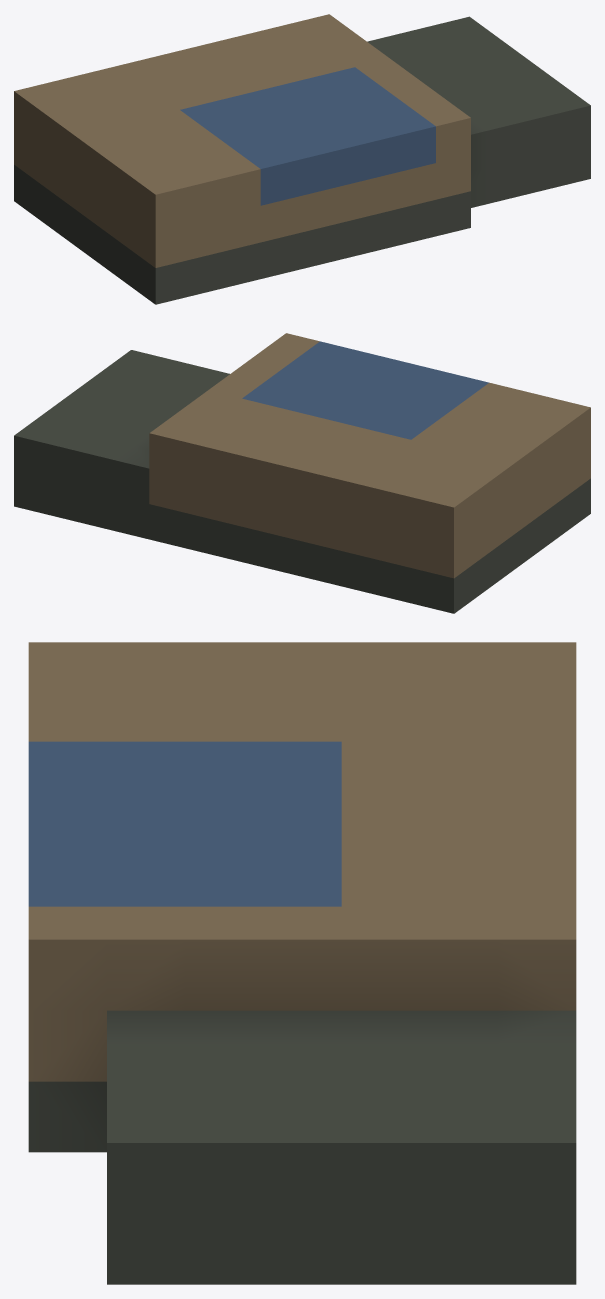
File: female_wing.glb
3 views of the same model, one above another, from view 1: azimuth 30°, elevation 25°; view 2: azimuth 150°, elevation 25°; view 3: azimuth 270°, elevation 25° (orthographic). The views are drawn at different scales.
Visible parts, largest first — view 1: VoxelVisual; view 2: VoxelVisual; view 3: VoxelVisual.
Boxes of the visible parts, bbox=[...] form: VoxelVisual: bbox=[14, 14, 590, 304]; VoxelVisual: bbox=[14, 333, 590, 613]; VoxelVisual: bbox=[28, 642, 576, 1284].
Size of what is drawn, in the model's own units: 0.8125 by 0.1875 by 0.4375.
